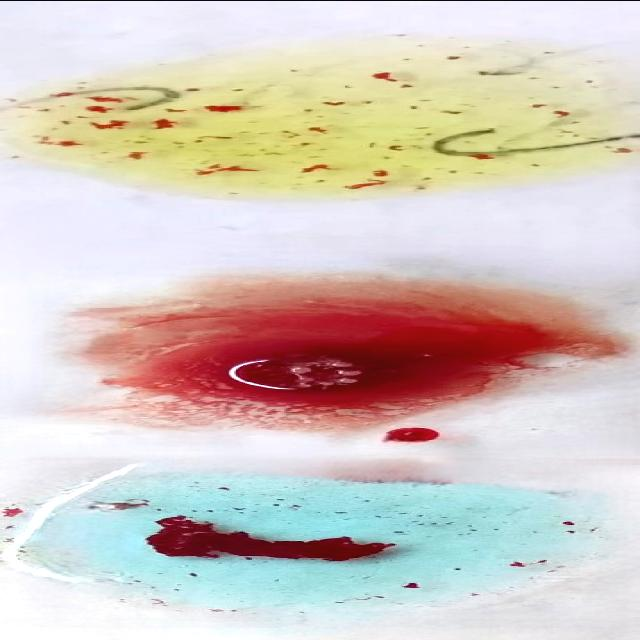A: (19, 468, 640, 604)
B: (0, 62, 640, 180)
D: (21, 270, 621, 419)
